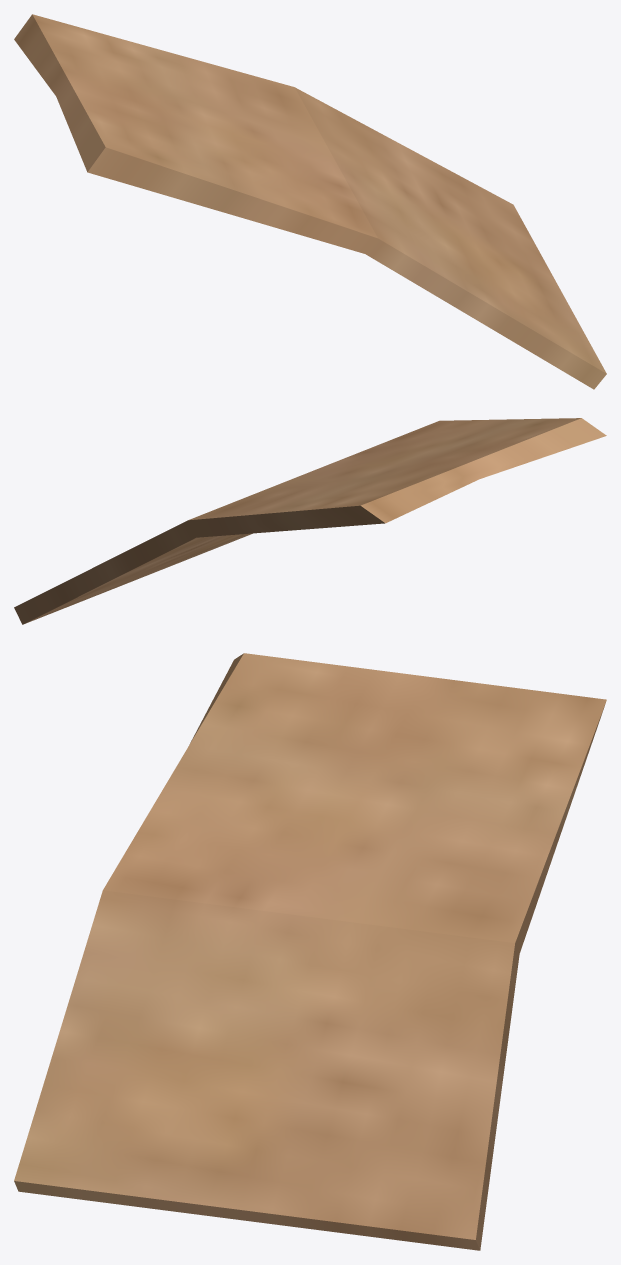
The model's file is Shell_Part2.fbx.
The picture shows the model from 3 angles, top to bottom: view 1: azimuth 30°, elevation 25°; view 2: azimuth 150°, elevation 25°; view 3: azimuth 270°, elevation 25°; orthographic projection. The views are drawn at different scales.
Parts seen in each view (by area): view 1: Sphere; view 2: Sphere; view 3: Sphere.
Boxes of the visible parts, <box> form: Sphere: <box>14,14,606,389</box>; Sphere: <box>14,418,606,624</box>; Sphere: <box>14,653,606,1250</box>.
Size of the model in its own units: 2.06 by 0.9953 by 1.7.
